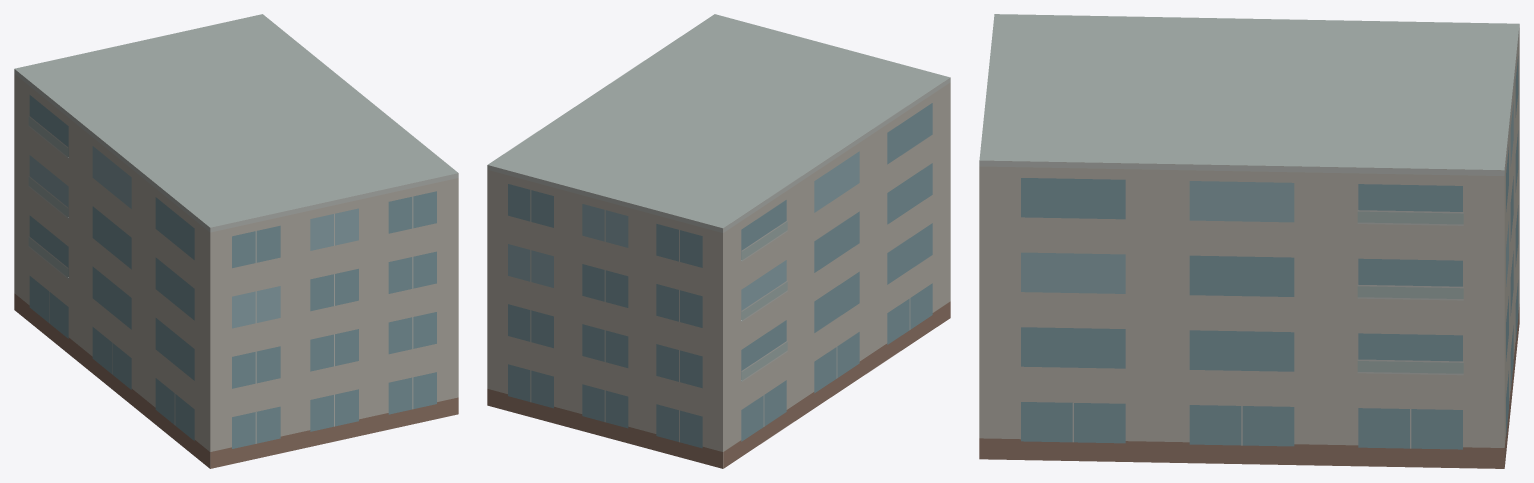
Rendered from residential-9b0889c6-f568-40af-8508-84f9ffbf038f.glb.
3 renders of one model, left to right at view 1: azimuth 30°, elevation 25°; view 2: azimuth 150°, elevation 25°; view 3: azimuth 270°, elevation 25°, orthographic. The views are drawn at different scales.
Visible parts, largest first — view 1: residential-9b0889c6-f568-40af-8508-84f9ffbf038f.tmp; view 2: residential-9b0889c6-f568-40af-8508-84f9ffbf038f.tmp; view 3: residential-9b0889c6-f568-40af-8508-84f9ffbf038f.tmp.
Boxes of the visible parts, x1=… form: residential-9b0889c6-f568-40af-8508-84f9ffbf038f.tmp: x1=14, y1=14, x2=458, y2=468; residential-9b0889c6-f568-40af-8508-84f9ffbf038f.tmp: x1=487, y1=14, x2=950, y2=468; residential-9b0889c6-f568-40af-8508-84f9ffbf038f.tmp: x1=979, y1=14, x2=1519, y2=468.
Bounding box in the file's own units: 13.69 × 12.2 × 20.
